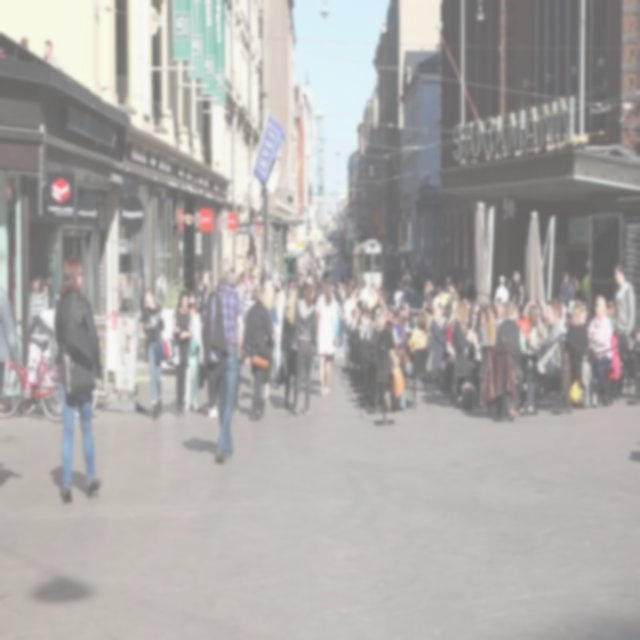pessoa: (50, 252, 105, 507), (207, 254, 245, 466), (518, 298, 564, 416), (241, 282, 274, 422), (494, 297, 528, 420), (290, 280, 320, 416), (452, 298, 486, 412), (611, 261, 638, 396), (274, 290, 303, 414), (220, 272, 244, 416), (141, 285, 166, 423), (397, 310, 429, 414), (170, 286, 194, 418), (587, 293, 614, 408), (314, 277, 338, 400), (0, 277, 22, 404), (183, 288, 205, 413), (451, 298, 478, 391), (203, 283, 219, 422), (380, 318, 403, 412), (46, 458, 91, 502), (402, 310, 430, 380), (262, 280, 280, 388), (429, 301, 447, 395), (377, 304, 401, 368), (444, 277, 460, 359), (178, 433, 220, 460), (520, 304, 542, 351), (530, 301, 548, 351), (478, 303, 498, 347), (278, 268, 288, 355), (30, 277, 50, 316), (294, 273, 322, 300), (446, 274, 462, 320), (336, 278, 346, 346), (511, 266, 526, 310), (385, 310, 400, 354), (242, 280, 256, 326), (118, 274, 134, 314), (494, 273, 511, 308), (420, 280, 436, 315), (28, 270, 52, 292), (154, 270, 168, 306), (402, 300, 418, 331), (558, 270, 572, 304), (432, 284, 446, 316), (393, 282, 405, 318), (366, 281, 380, 311), (348, 308, 360, 342), (234, 270, 254, 290), (348, 284, 361, 312), (503, 276, 516, 303), (606, 298, 616, 330), (578, 300, 588, 327), (471, 300, 482, 324), (578, 300, 588, 326), (495, 302, 504, 330), (375, 286, 387, 306), (363, 312, 371, 342), (573, 276, 581, 300), (402, 268, 412, 287)
